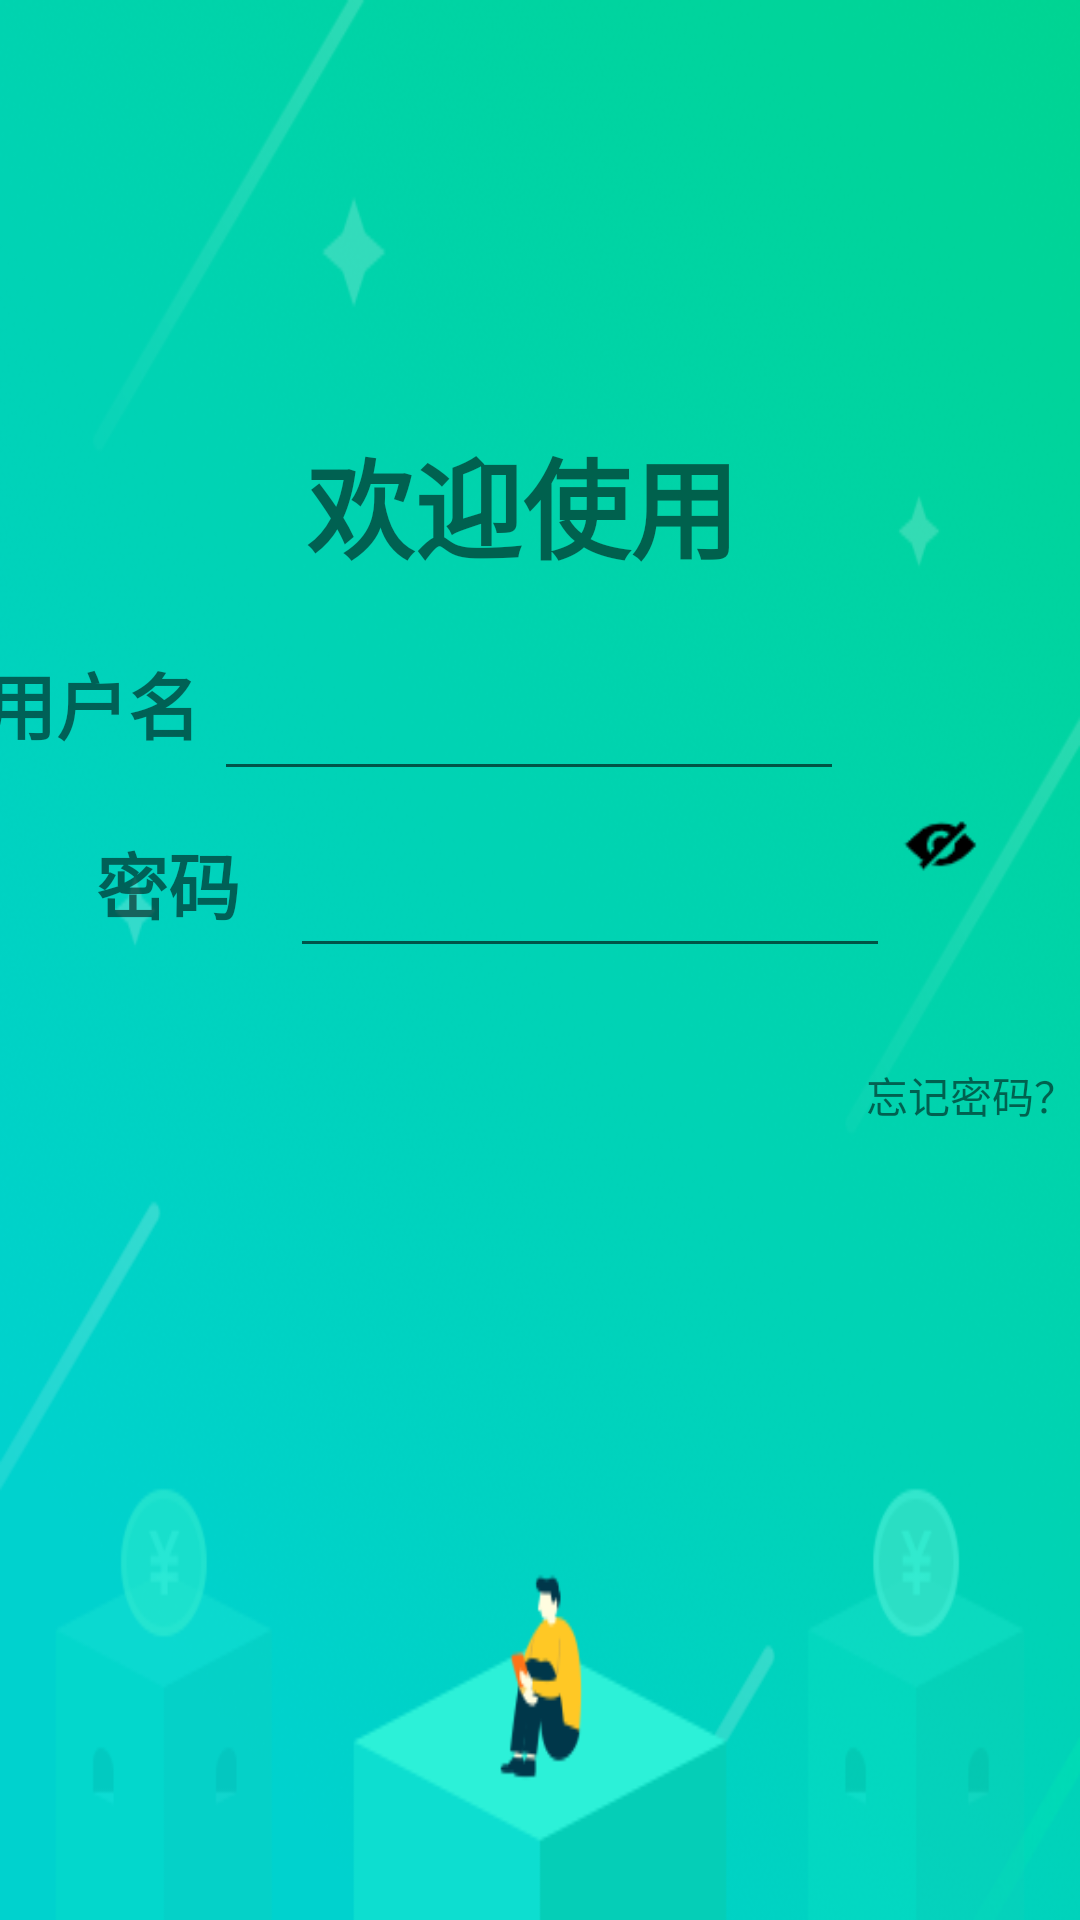

Point at icon controls on the screen. Image size 1080*1920, points as point (x, y).
eye: point (940, 846)
